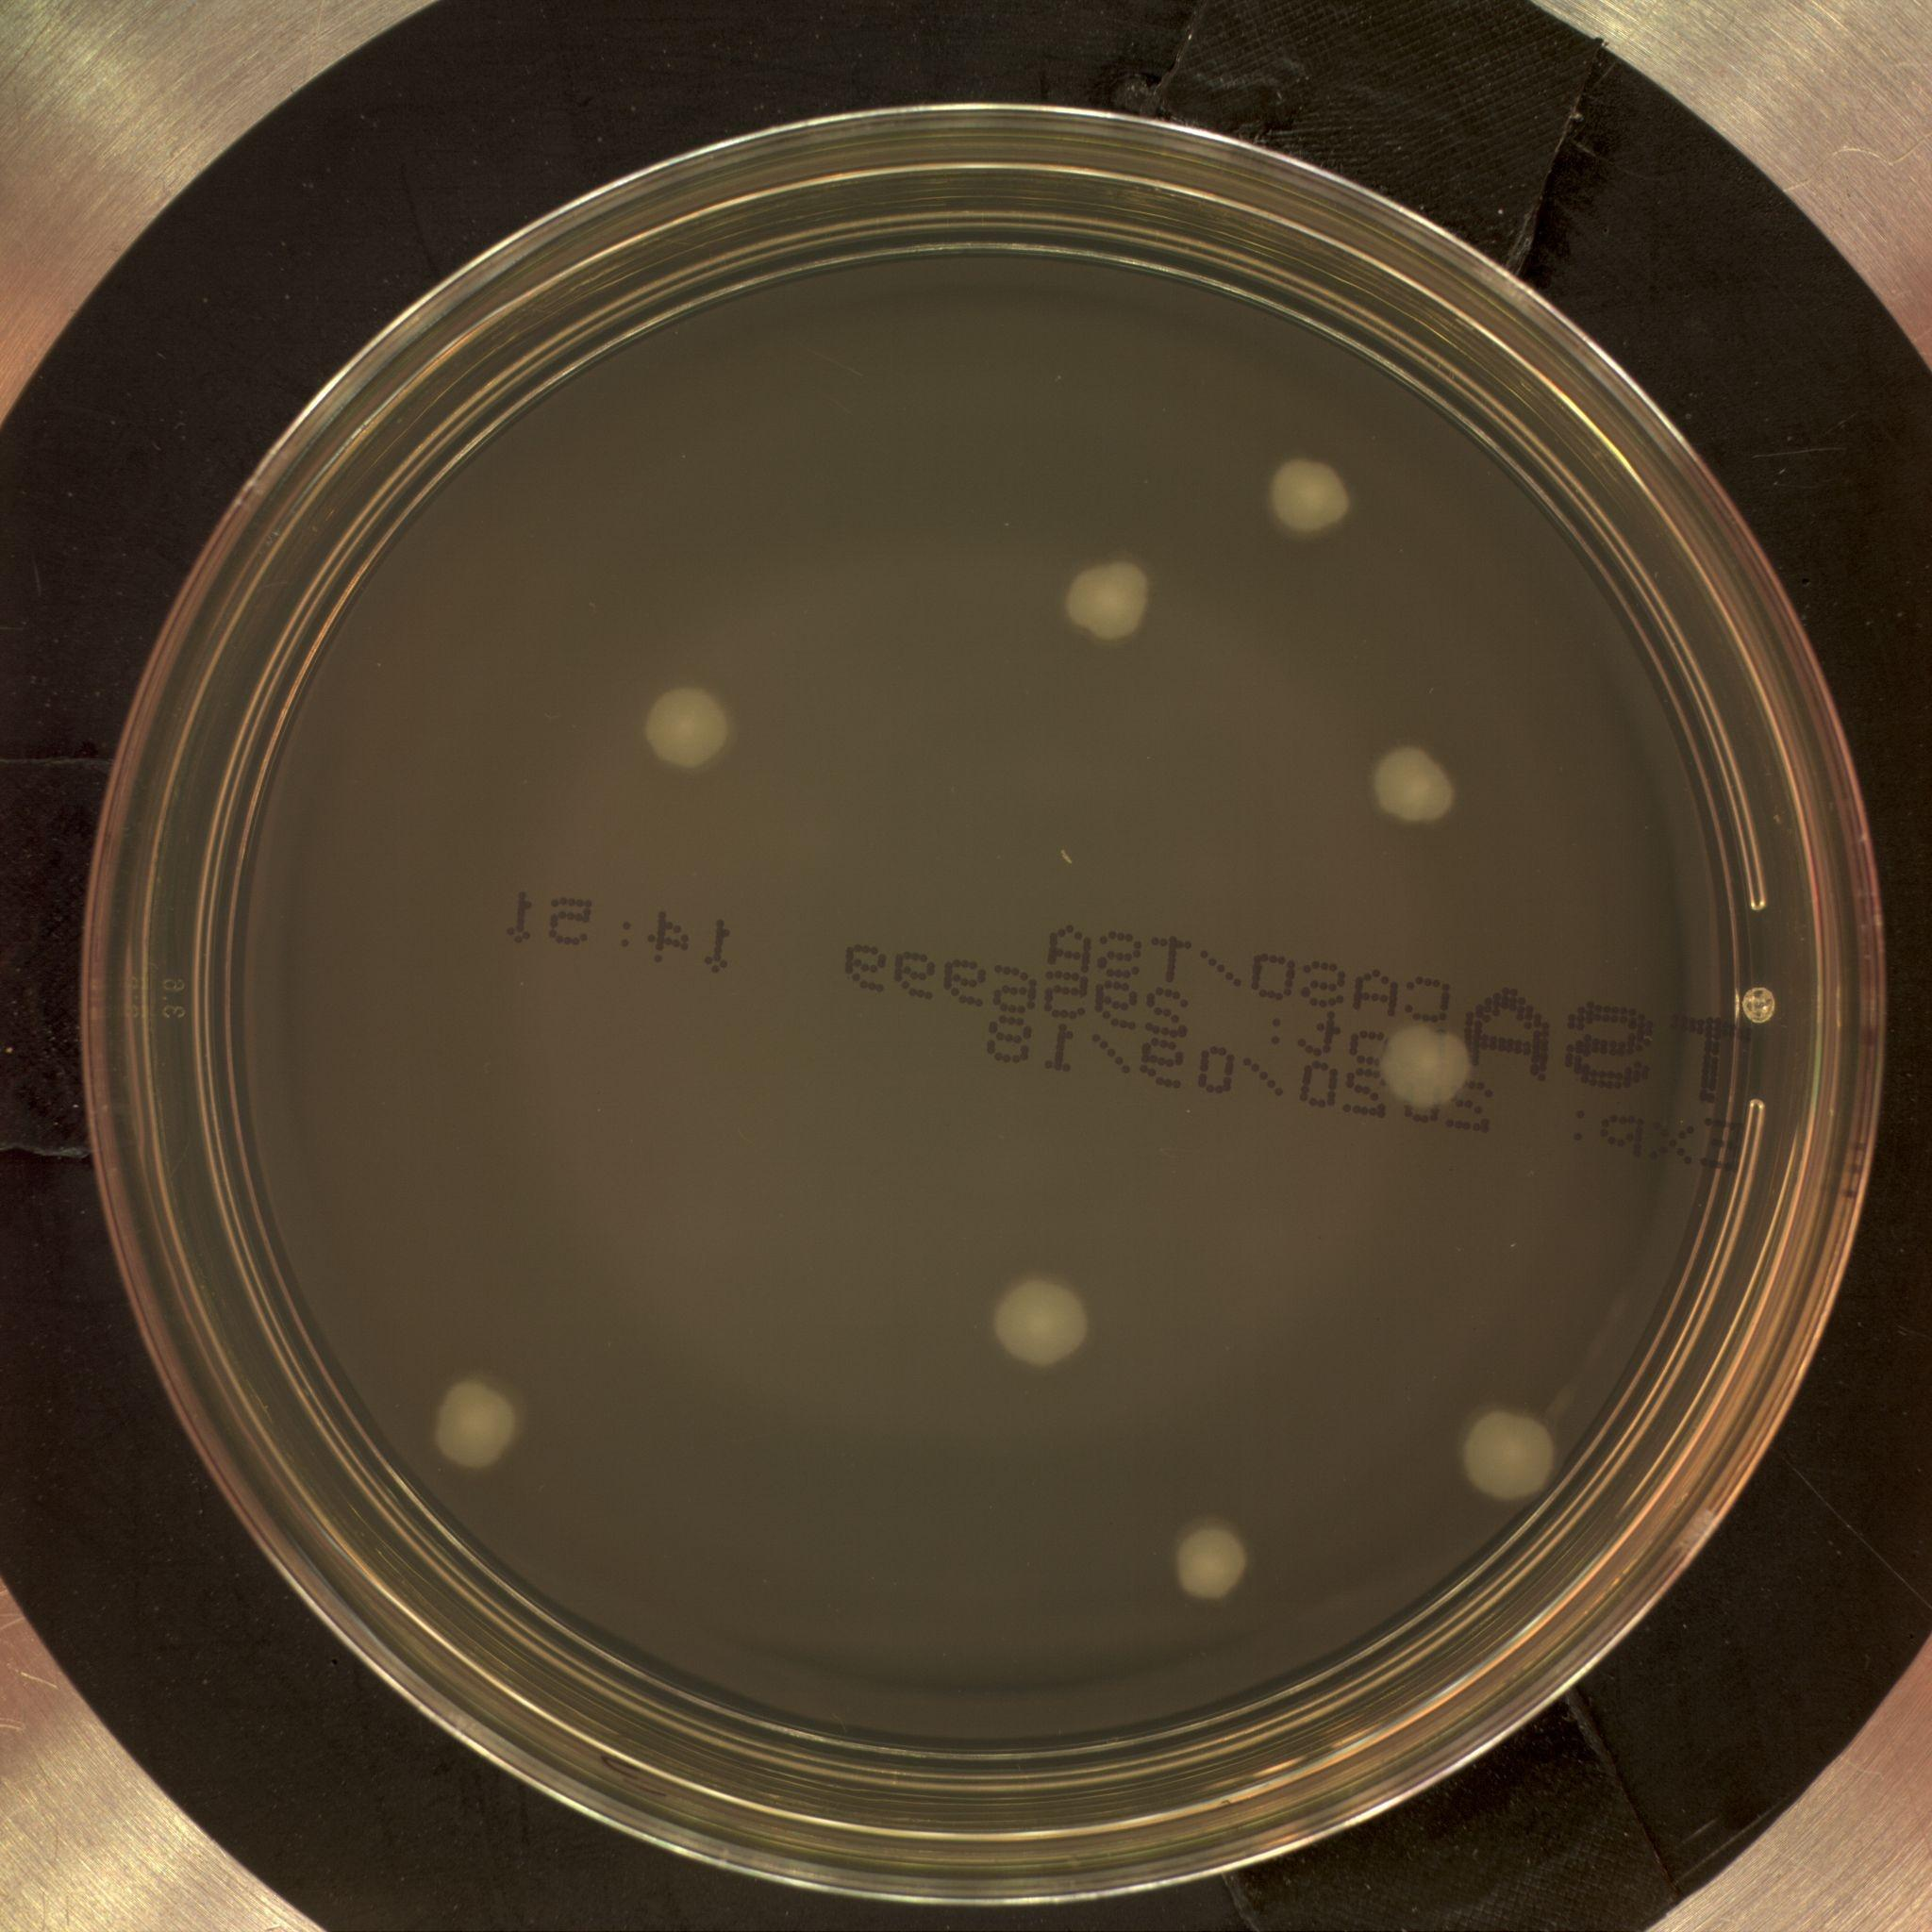e. coli: (1246, 433, 1369, 543), (1463, 1401, 1573, 1518), (1364, 727, 1474, 840), (987, 1263, 1095, 1376), (1378, 1014, 1488, 1123), (1053, 543, 1152, 651), (1171, 1518, 1256, 1628), (644, 674, 741, 770), (441, 1368, 525, 1467)
